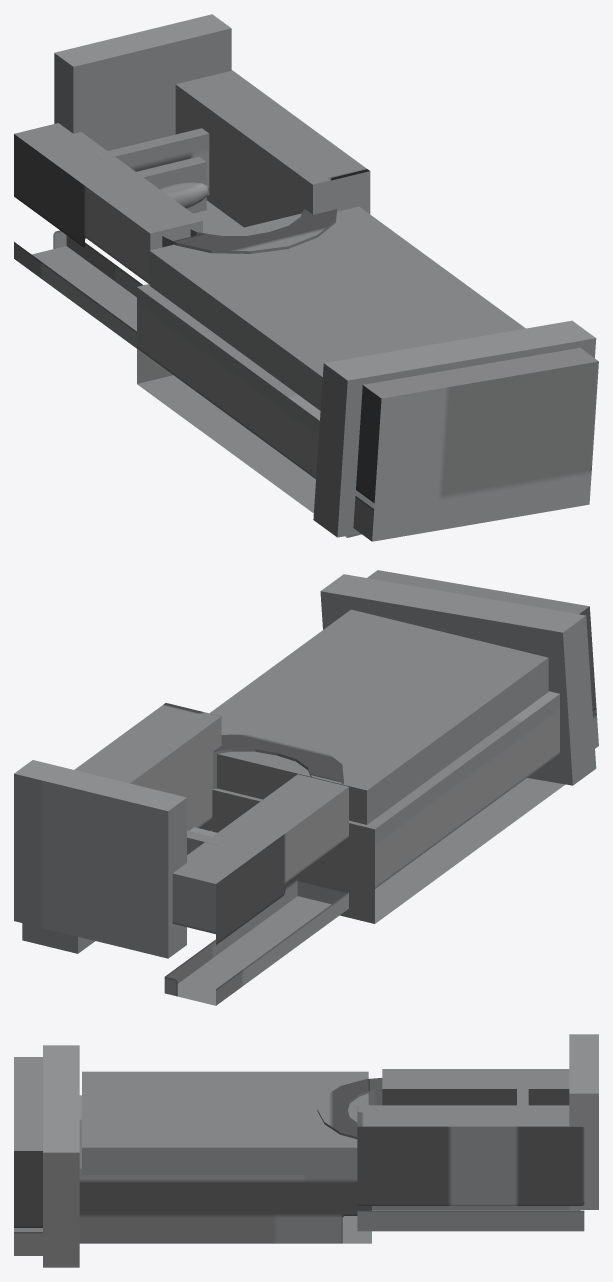
The picture shows the model from 3 angles, top to bottom: view 1: azimuth 30°, elevation 25°; view 2: azimuth 150°, elevation 25°; view 3: azimuth 270°, elevation 25°; orthographic projection. The views are drawn at different scales.
Size of the model in its own units: 0.8478 by 0.6876 by 2.15.
